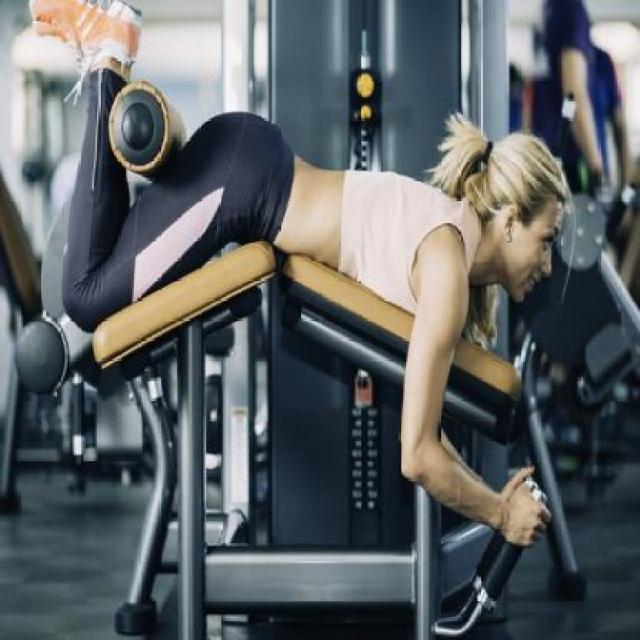reg curl machine: (8, 0, 550, 640)
